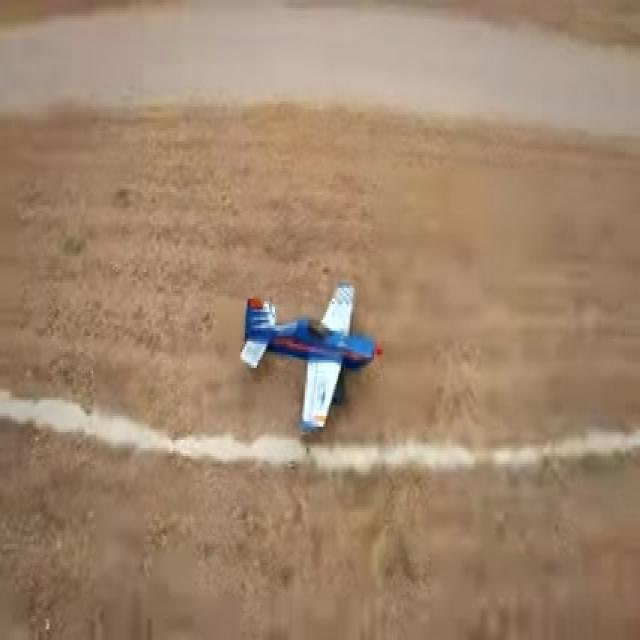iha: (238, 277, 386, 438)
